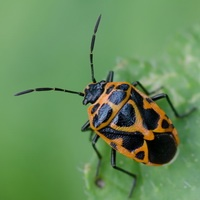insect: (15, 15, 199, 196)
